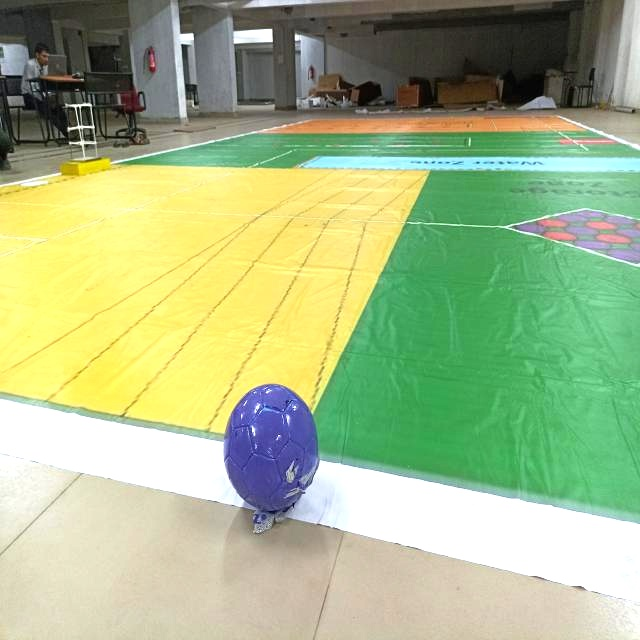purple_ball: (220, 377, 328, 522)
silo: (61, 97, 105, 174)
